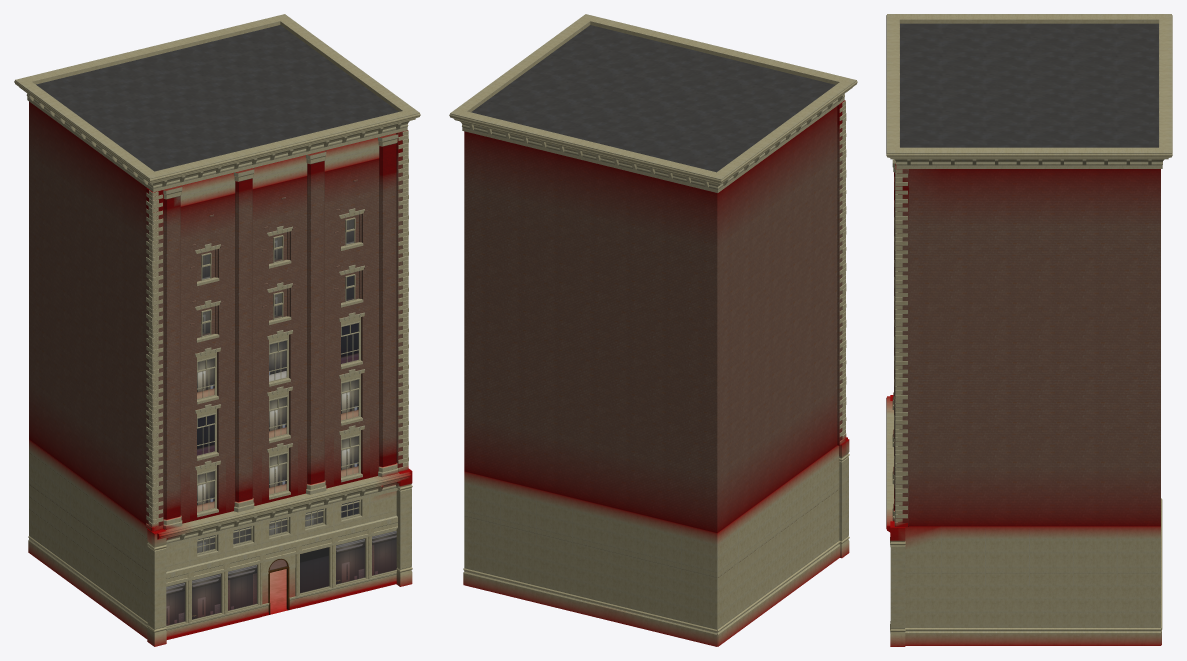
Rendered from Building_Medium_2_001.gltf.
The picture shows the model from 3 angles, left to right: view 1: azimuth 30°, elevation 25°; view 2: azimuth 150°, elevation 25°; view 3: azimuth 270°, elevation 25°; orthographic projection. The views are drawn at different scales.
Visible parts, largest first — view 1: Building_Medium_2.001; view 2: Building_Medium_2.001; view 3: Building_Medium_2.001.
Part boxes in pixels (left/top/right/bottom): Building_Medium_2.001: left=14, top=14, right=420, bottom=646; Building_Medium_2.001: left=449, top=14, right=857, bottom=646; Building_Medium_2.001: left=886, top=14, right=1172, bottom=646.
Bounding box in the file's own units: 15.06 × 25.01 × 13.06.
Materials: 12 (11 with a texture image).
